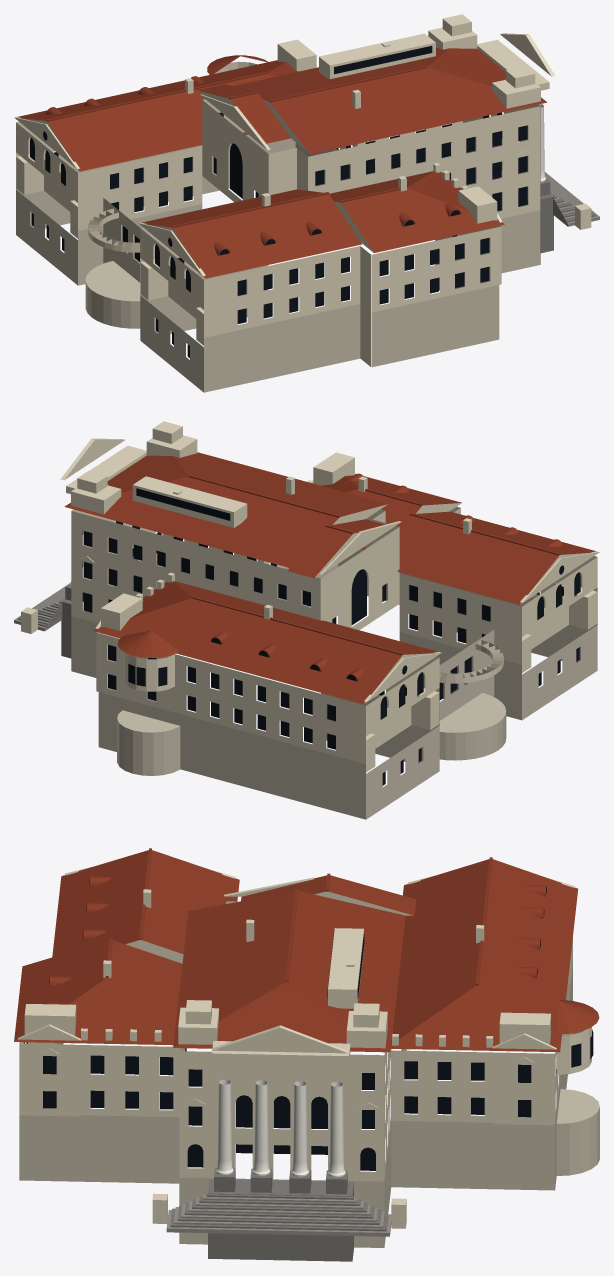
File: ddut.lod.glb
3 renders of one model, top to bottom at view 1: azimuth 30°, elevation 25°; view 2: azimuth 150°, elevation 25°; view 3: azimuth 270°, elevation 25°, orthographic. The views are drawn at different scales.
Visible parts, largest first — view 1: ddut_wall, ddut_roof, ddut_wall2, ddut_glass, ddut_stone, ddut_wall3; view 2: ddut_wall, ddut_roof, ddut_wall2, ddut_glass, ddut_stone, ddut_wall3; view 3: ddut_roof, ddut_wall, ddut_wall2, ddut_stone, ddut_glass, ddut_trim_s, ddut_wall3.
Boxes of the visible parts, x1=… form: ddut_wall: x1=14, y1=14, x2=591, y2=366; ddut_roof: x1=18, y1=47, x2=546, y2=278; ddut_wall2: x1=16, y1=135, x2=540, y2=392; ddut_glass: x1=30, y1=46, x2=527, y2=357; ddut_stone: x1=475, y1=161, x2=595, y2=253; ddut_wall3: x1=544, y1=172, x2=599, y2=226; ddut_wall: x1=21, y1=421, x2=599, y2=772; ddut_roof: x1=64, y1=452, x2=595, y2=704; ddut_wall2: x1=71, y1=550, x2=597, y2=819; ddut_glass: x1=82, y1=488, x2=580, y2=785; ddut_stone: x1=18, y1=556, x2=142, y2=658; ddut_wall3: x1=14, y1=583, x2=69, y2=631; ddut_roof: x1=14, y1=848, x2=599, y2=1052; ddut_wall: x1=17, y1=867, x2=591, y2=1228; ddut_wall2: x1=19, y1=965, x2=599, y2=1247; ddut_stone: x1=170, y1=1168, x2=388, y2=1261; ddut_glass: x1=24, y1=877, x2=593, y2=1170; ddut_trim_s: x1=216, y1=1079, x2=345, y2=1177; ddut_wall3: x1=166, y1=1195, x2=391, y2=1236.
Bounding box in the file's own units: 60.45 × 24.68 × 55.91.
